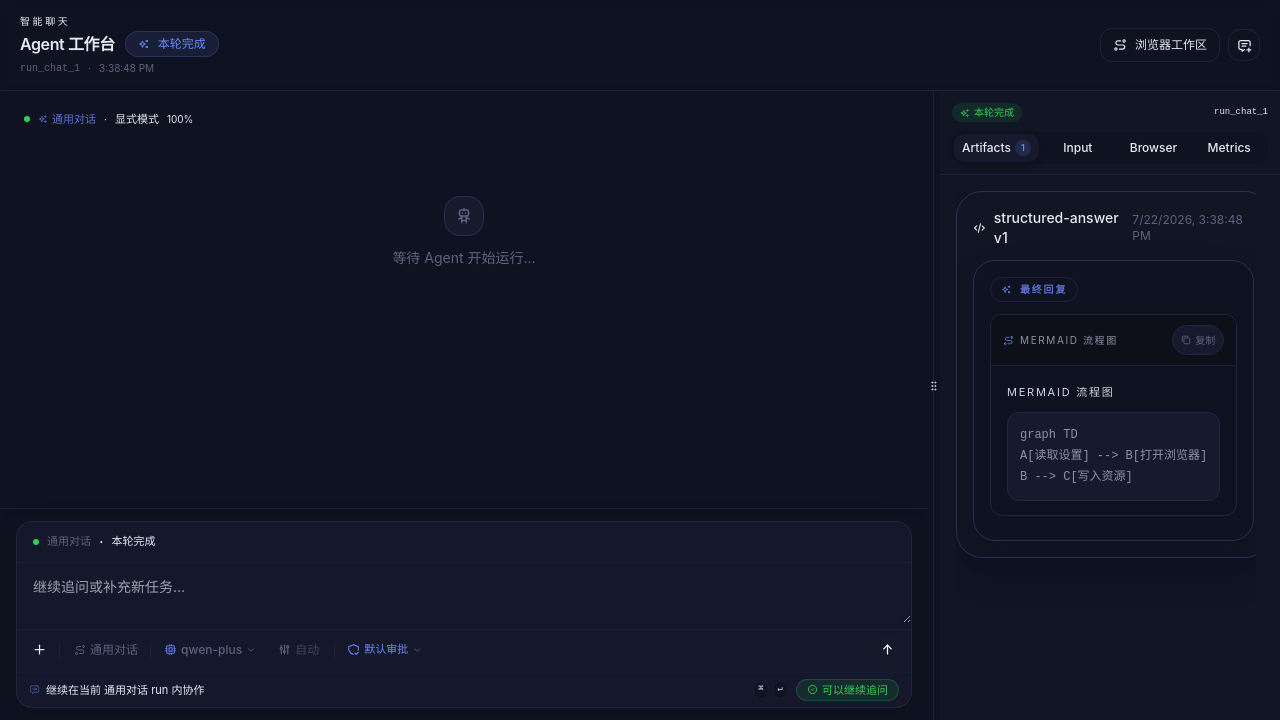
ChatPage › renders mermaid diagrams inside the Metrics tab when the run artifacts contain them
Click the button "Metrics" at (1229, 148), box x1=1192 y1=134 x2=1266 y2=162
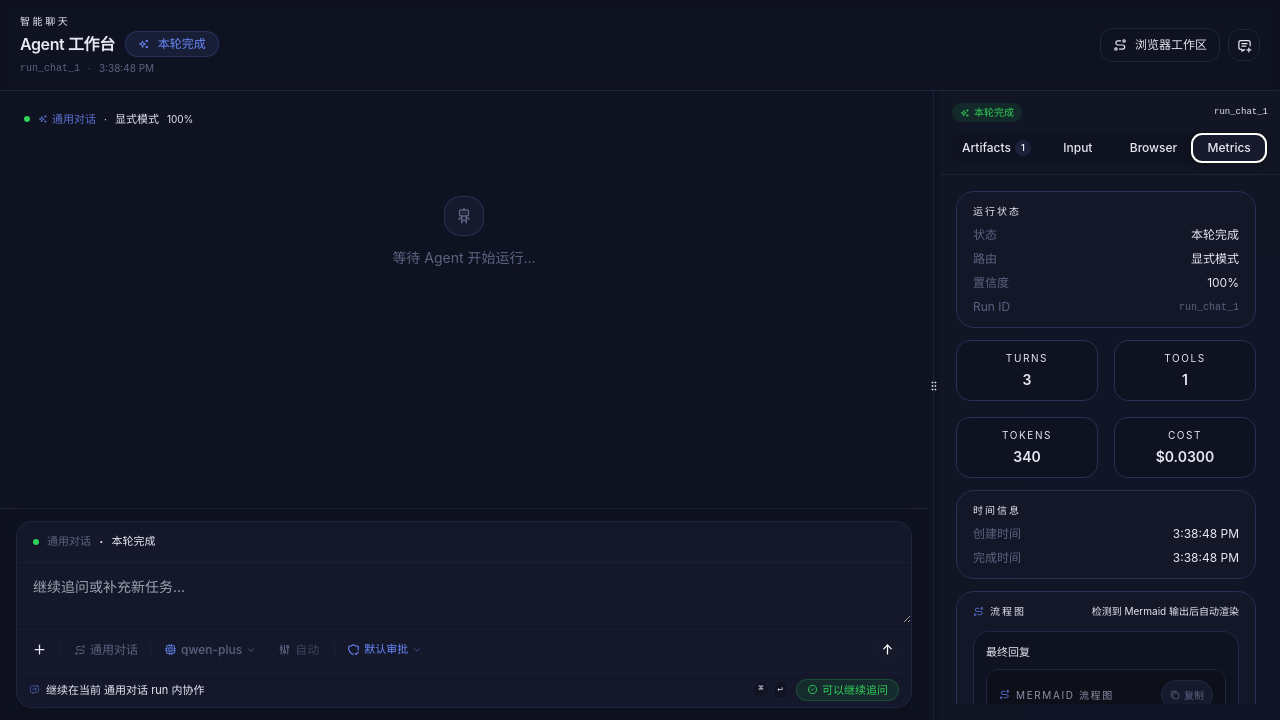
Expected: the text "Mermaid 流程图" is shown, x1=1016 y1=688 x2=1114 y2=700
Now the text "流程图" is shown, box x1=973 y1=604 x2=1026 y2=619
